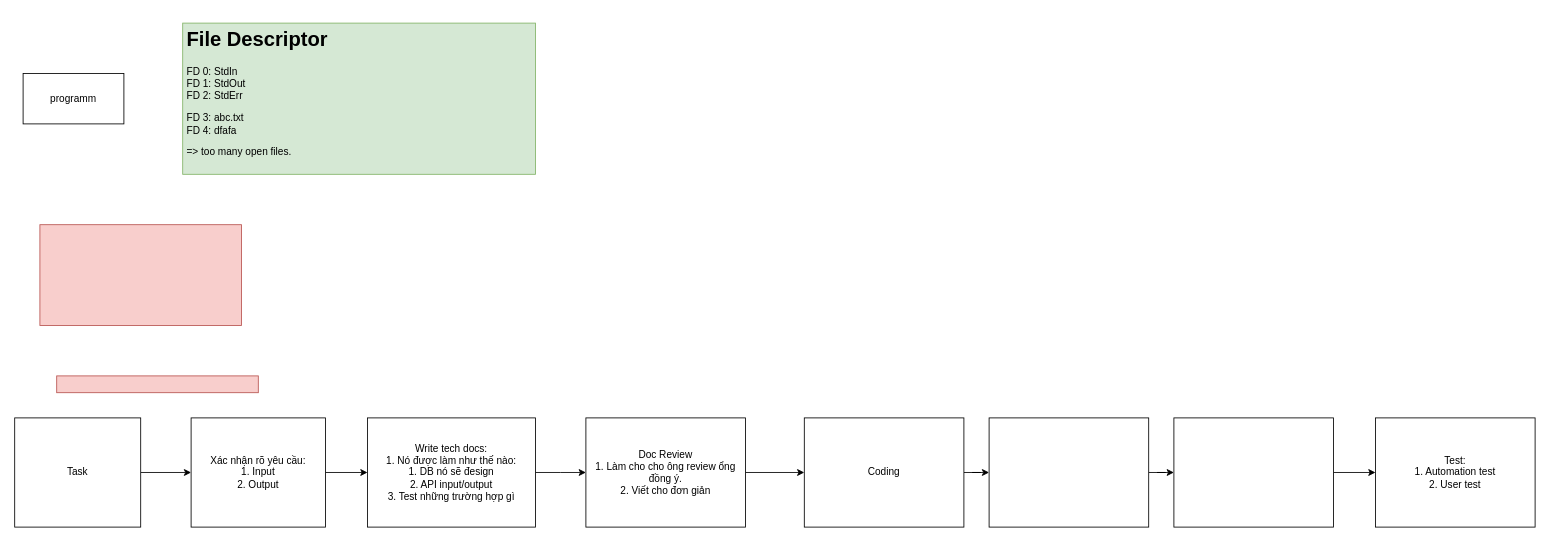
Some shapes in this 1550 by 542 pixel diagram are drawn without their labels. Each missing label, with the centre of its shape:
Code Review 1. UT passed: point (1068, 472)
Define: point (157, 384)
Merge master Auto deploy test/testing Deploy production (mannually): point (1253, 472)
Workflow Task: point (140, 275)
